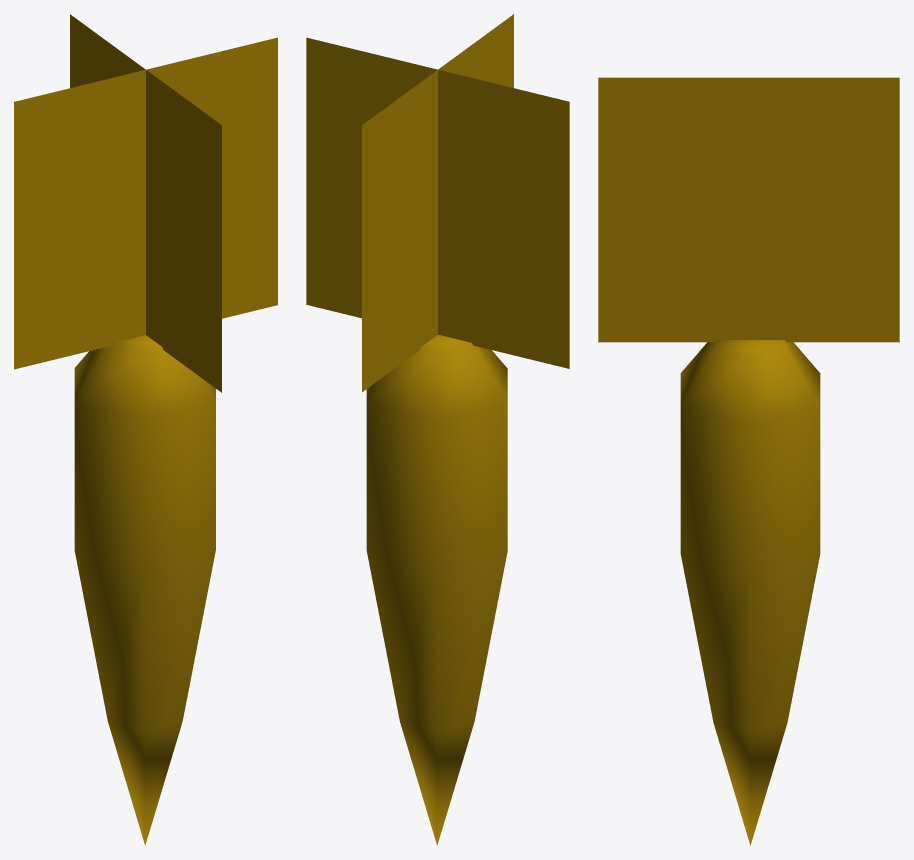
File: Carrot.fbx
3 renders of one model, left to right at view 1: azimuth 30°, elevation 25°; view 2: azimuth 150°, elevation 25°; view 3: azimuth 270°, elevation 25°, orthographic.
Parts seen in each view (by area): view 1: Leaves, Carrot; view 2: Leaves, Carrot; view 3: Leaves, Carrot.
Boxes of the visible parts, box(x1,y1,x2,y2) form: Leaves: box(14, 14, 277, 392); Carrot: box(74, 335, 215, 845); Leaves: box(306, 14, 569, 392); Carrot: box(366, 334, 507, 845); Leaves: box(598, 77, 899, 342); Carrot: box(680, 340, 820, 845).
Bounding box in the file's own units: 3.73 × 10.51 × 3.73.
